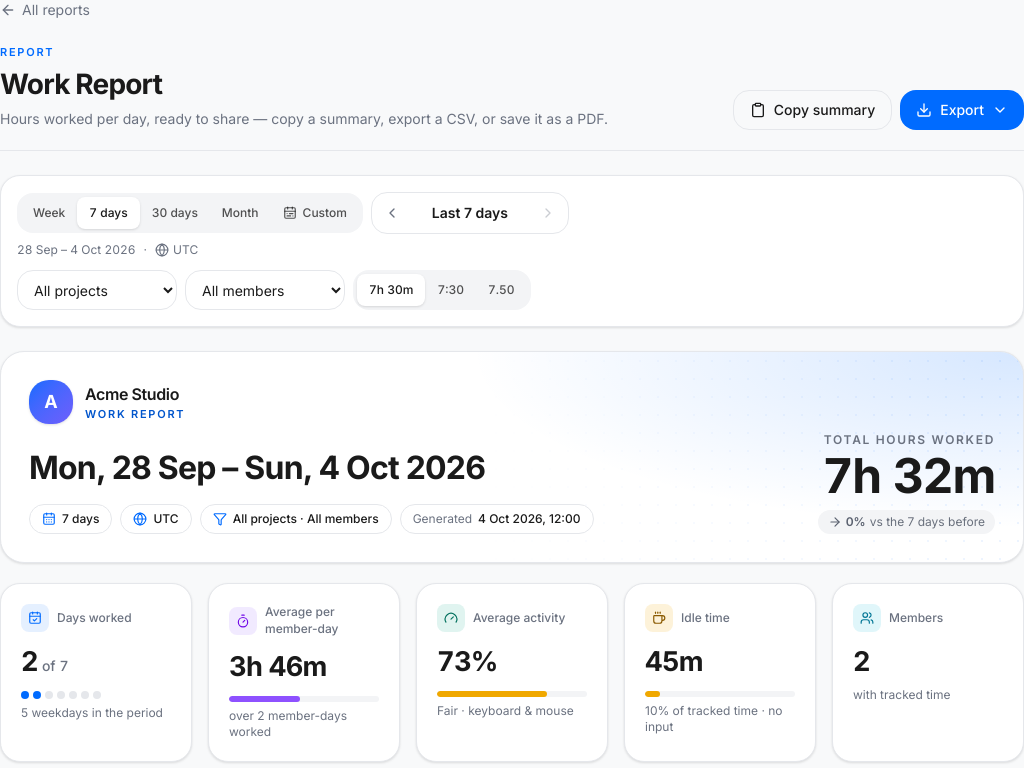
Test: Work Report (live) › reports a custom range of days, compared with the same number of days before it
Click the button "Custom". click: click(315, 213)
box: x1=271 y1=197 x2=359 y2=229
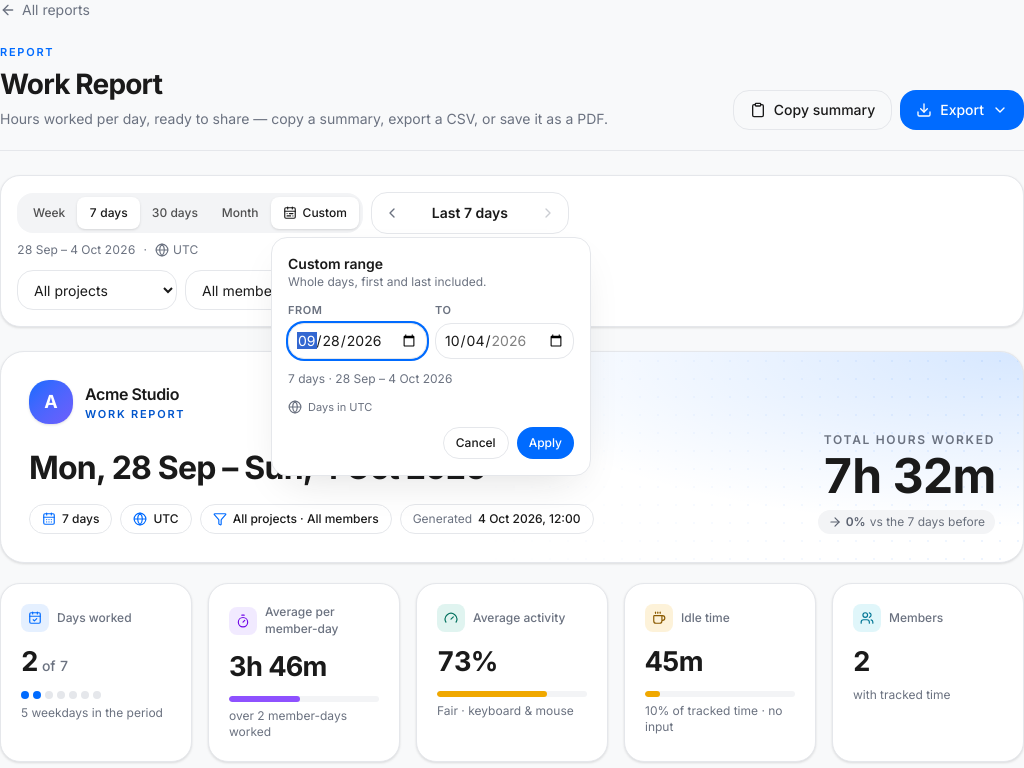
Type "2026-09-01" into the date field labelled "From". click: (358, 340)
box: x1=288 y1=322 x2=427 y2=358
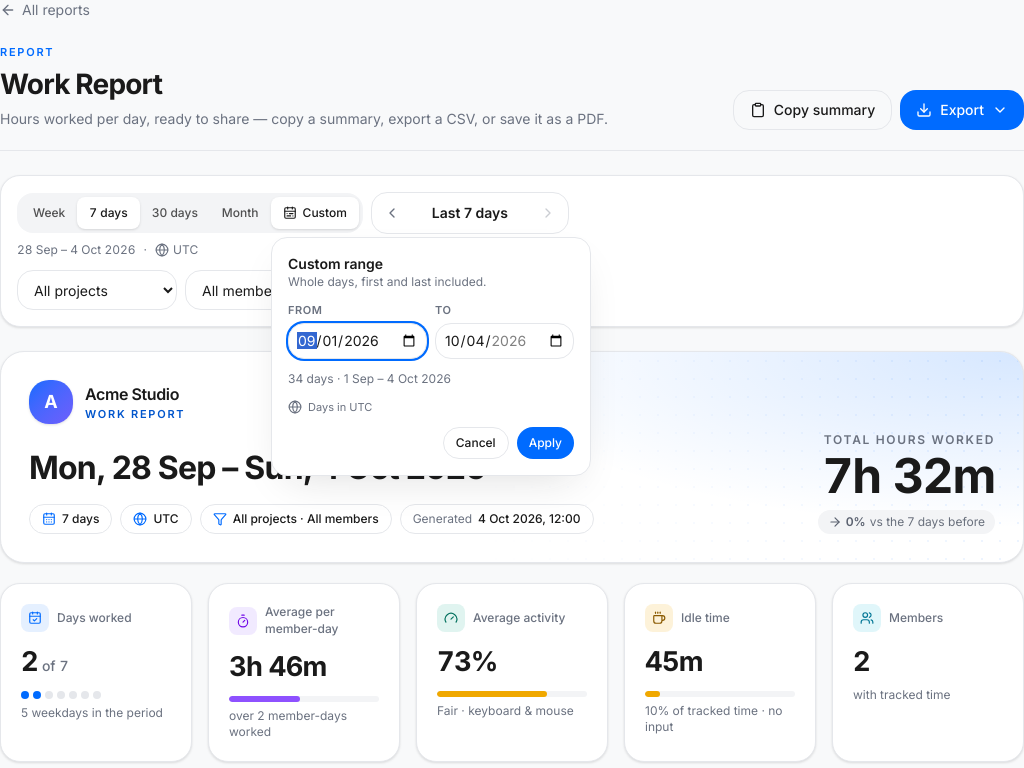
Type "2026-09-15" into the date field labelled "To". click: (504, 340)
box: x1=435 y1=322 x2=574 y2=358
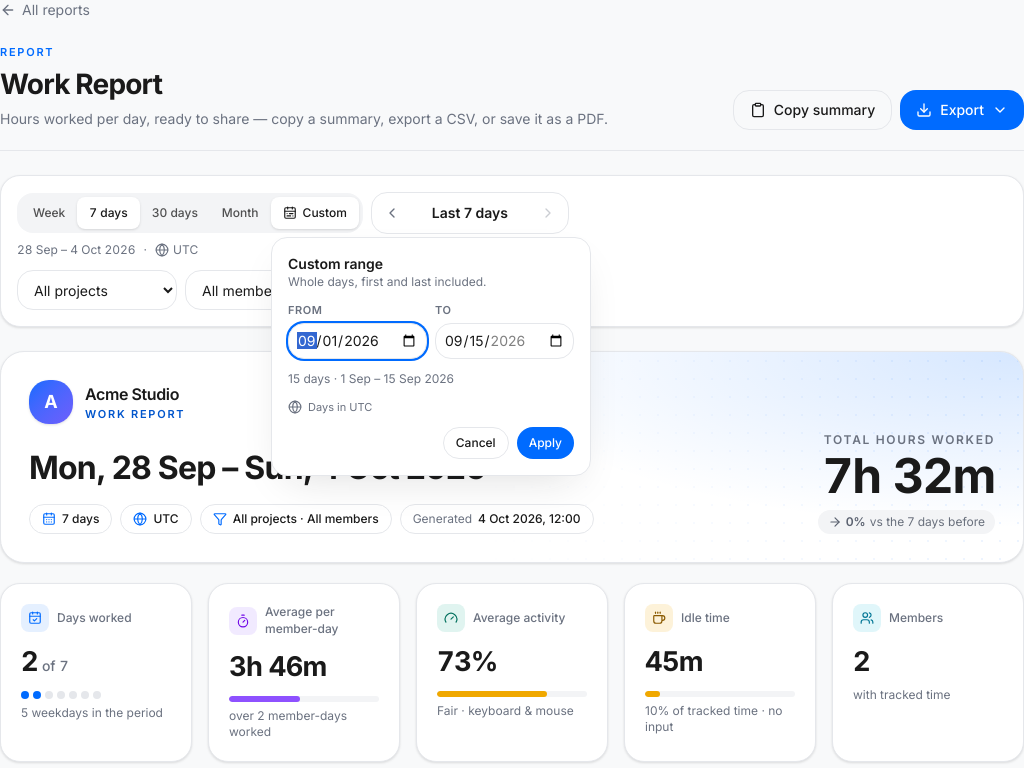
Click the button "Apply". click: click(545, 443)
box: x1=517 y1=427 x2=574 y2=459
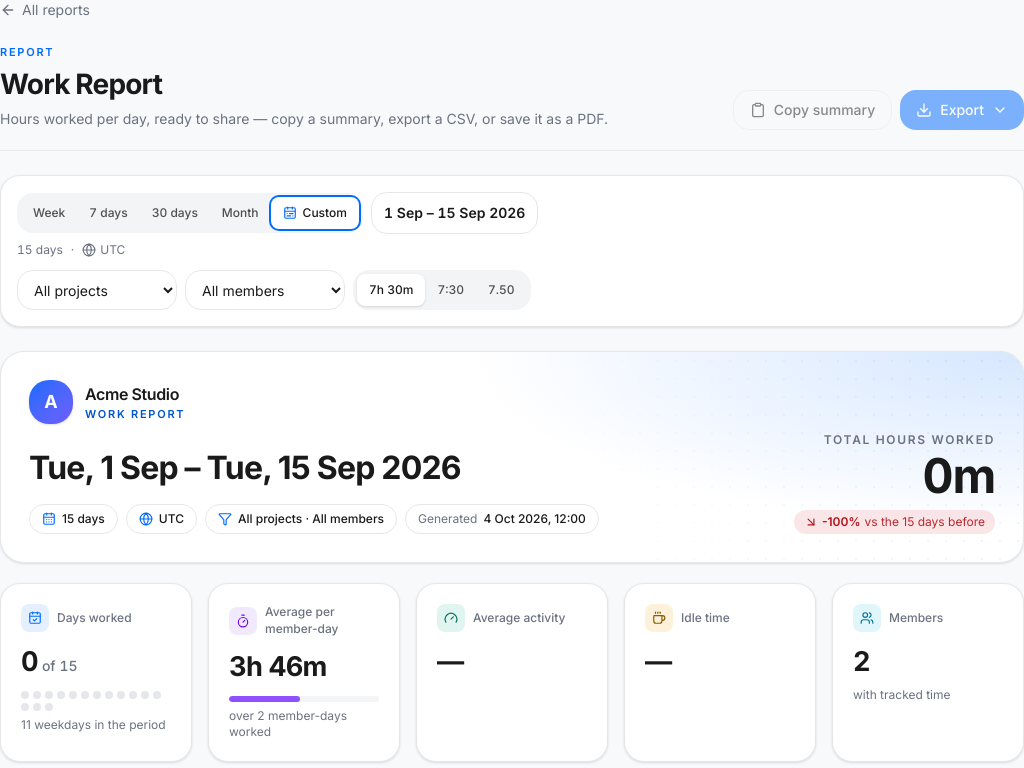
Now the element "Tue, 1 Sep – Tue, 15 Sep 2026" is shown, box x1=0 y1=351 x2=1023 y2=563
